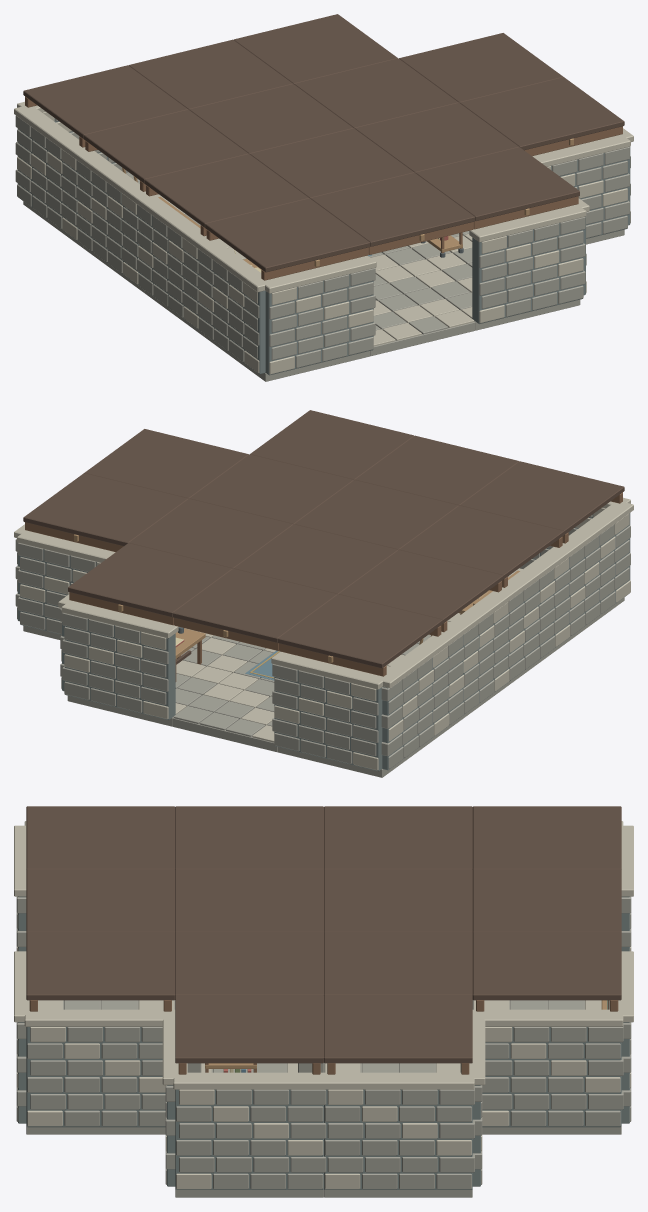
The model's file is tv_02_01_archive_room.glb.
3 views of the same model, one above another, from view 1: azimuth 30°, elevation 25°; view 2: azimuth 150°, elevation 25°; view 3: azimuth 270°, elevation 25° (orthographic). The views are drawn at different scales.
Visible parts, largest first — view 1: wall_0021, wall_0015, ceiling_0044, ceiling_0048, ceiling_0052, ceiling_0056, wall_0014, ceiling_0045, ceiling_0046, ceiling_0047, ceiling_0049, ceiling_0054 (+14 smaller); view 2: wall_0023, wall_0018, ceiling_0047, ceiling_0051, ceiling_0055, ceiling_0057, wall_0019, ceiling_0046, ceiling_0044, ceiling_0045, ceiling_0050, ceiling_0053 (+14 smaller); view 3: wall_0024, wall_0026, wall_0022, wall_0020, ceiling_0052, ceiling_0055, ceiling_0056, ceiling_0057, ceiling_0044, ceiling_0047, ceiling_0045, ceiling_0046 (+20 smaller).
Part boxes in pixels (<box>): wall_0021: <box>469,206,586,323</box>; wall_0015: <box>265,255,376,375</box>; ceiling_0044: <box>205,198,370,280</box>; ceiling_0048: <box>310,172,475,254</box>; ceiling_0052: <box>415,147,579,229</box>; ceiling_0056: <box>460,77,624,156</box>; wall_0014: <box>195,239,273,374</box>; ceiling_0045: <box>144,154,308,236</box>; ceiling_0046: <box>84,109,248,191</box>; ceiling_0047: <box>23,65,187,147</box>; ceiling_0049: <box>250,128,414,198</box>; ceiling_0054: <box>294,58,458,128</box>; wall_0023: <box>61,602,178,719</box>; wall_0018: <box>271,651,386,771</box>; ceiling_0047: <box>277,594,442,676</box>; ceiling_0051: <box>172,568,337,650</box>; ceiling_0055: <box>68,543,232,625</box>; ceiling_0057: <box>23,473,187,552</box>; wall_0019: <box>374,635,451,770</box>; ceiling_0046: <box>339,550,503,632</box>; ceiling_0044: <box>460,461,624,543</box>; ceiling_0045: <box>399,505,563,587</box>; ceiling_0050: <box>233,524,397,594</box>; ceiling_0053: <box>189,454,353,524</box>; wall_0024: <box>173,1072,326,1189</box>; wall_0026: <box>323,1072,474,1189</box>; wall_0022: <box>472,1009,623,1127</box>; wall_0020: <box>24,1009,175,1127</box>; ceiling_0052: <box>26,932,175,1011</box>; ceiling_0055: <box>472,932,621,1011</box>; ceiling_0056: <box>175,995,323,1074</box>; ceiling_0057: <box>324,995,472,1074</box>; ceiling_0044: <box>26,806,175,869</box>; ceiling_0047: <box>472,806,621,869</box>; ceiling_0045: <box>175,806,323,869</box>; ceiling_0046: <box>324,806,472,869</box>.
Size of the model in its own units: 16.67 by 4.16 by 16.67.
